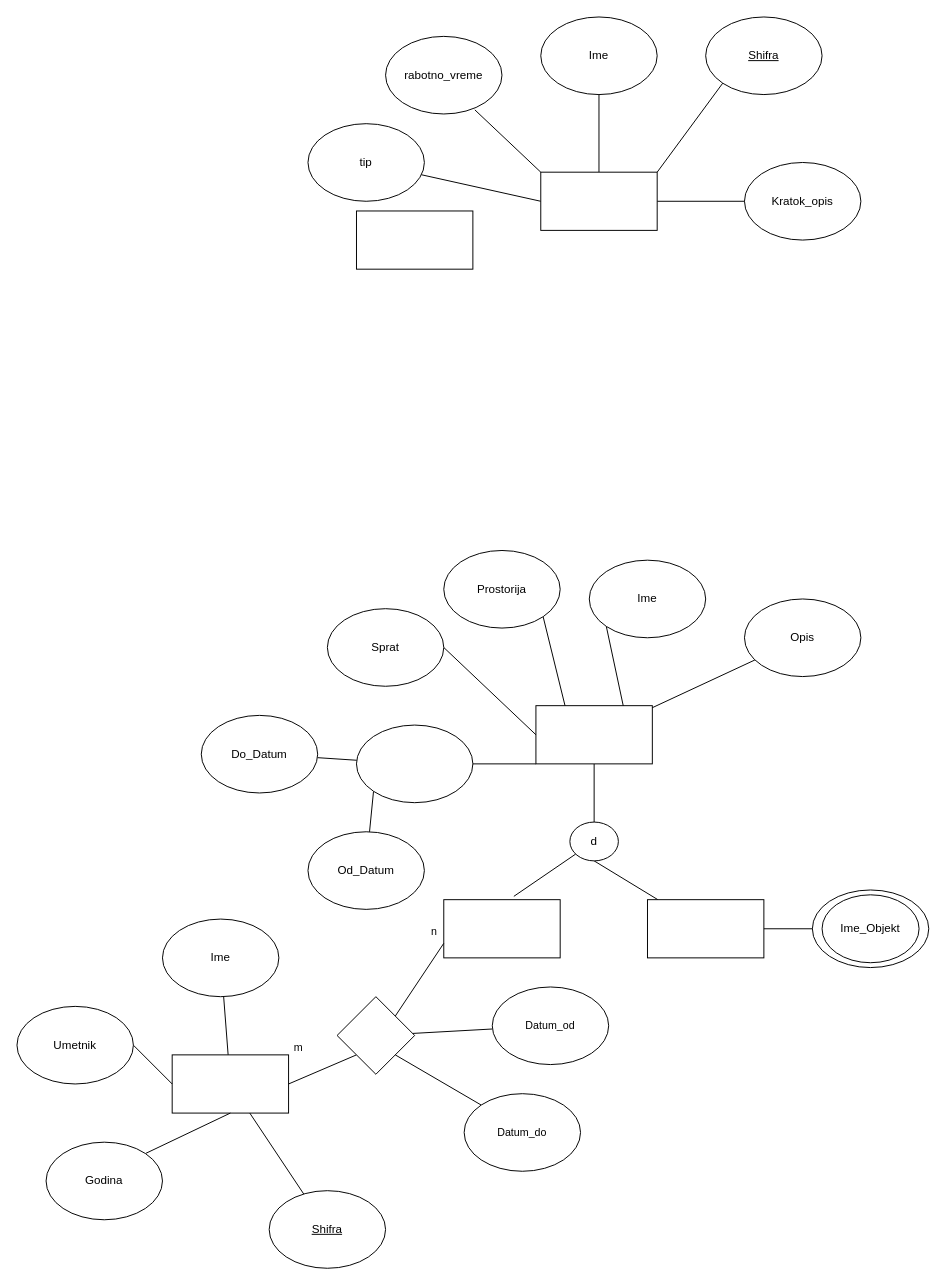
Image size: 946x1285. Some labels were removed from this diagram. The shapes that lost their labels are listed below. From the top down, each one's centre as x and y in pixels, then its label:
the point at 598,200: MUZEJ
the point at 593,734: IZLOZBA
the point at 414,763: Datum
the point at 501,928: UMETNOST
the point at 705,928: TEHNOLOGIJA
the point at 375,1035: Izlozeno
the point at 230,1083: UMET_DELO
